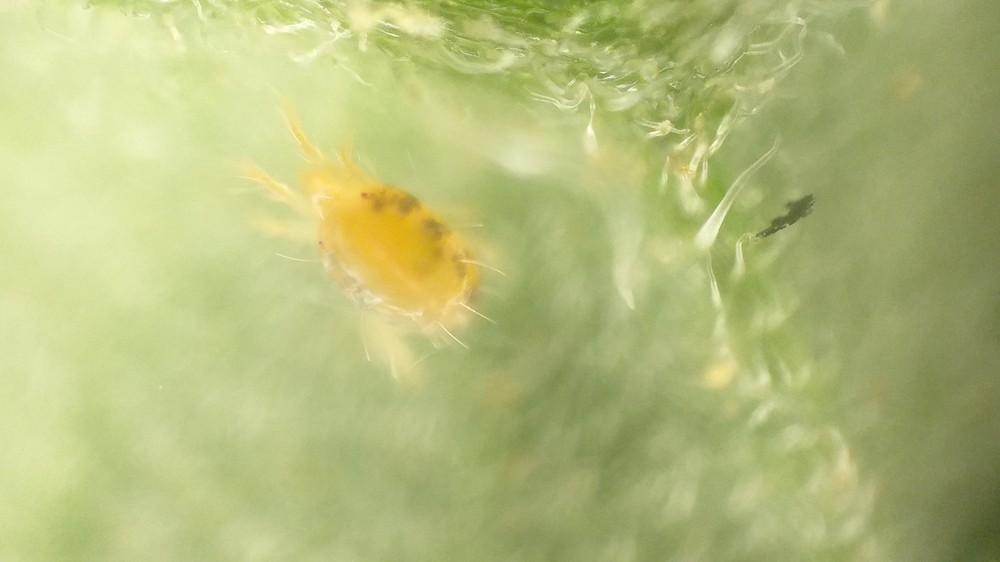Aracnido Rojo: (229, 92, 525, 396)
